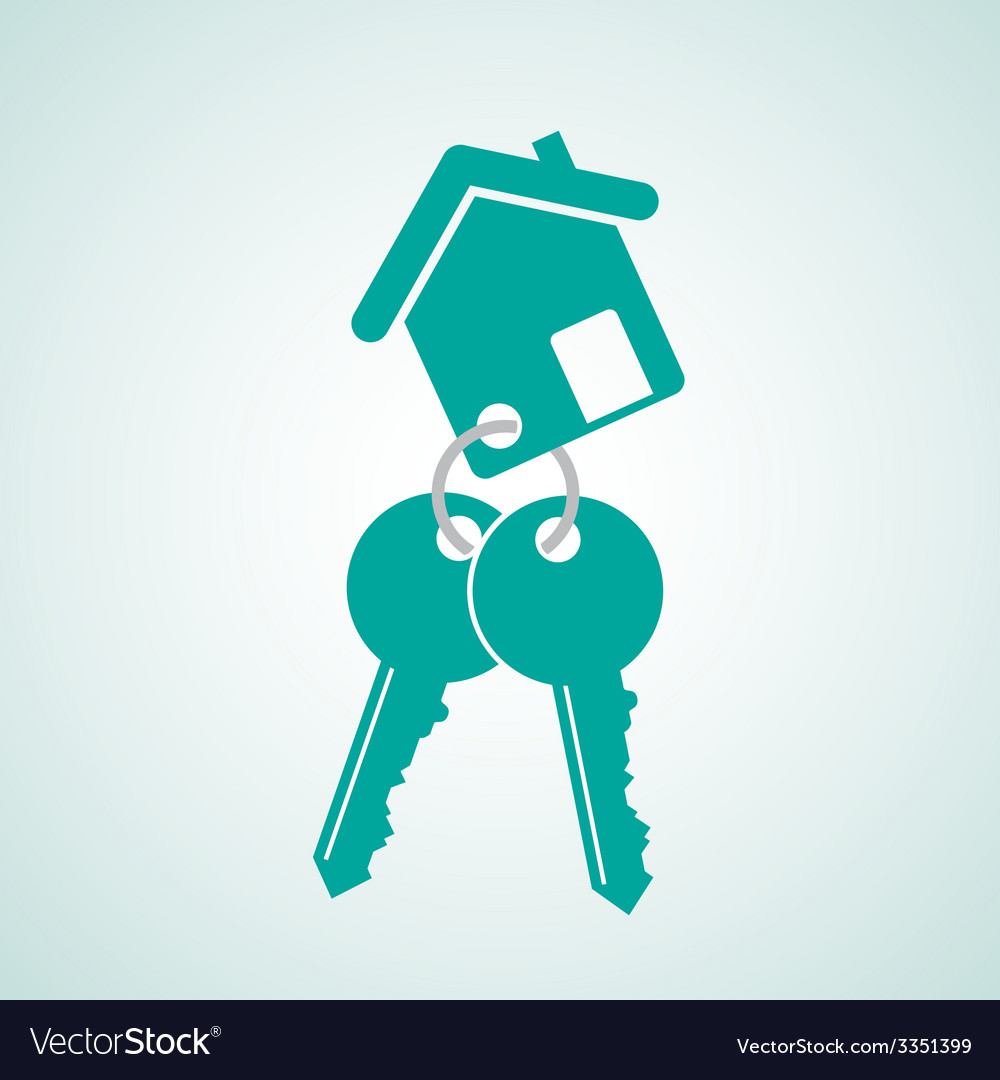key: (313, 490, 669, 915)
